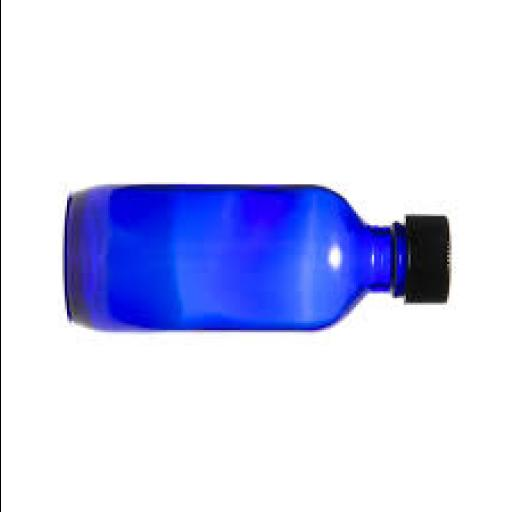blue-bottle: (68, 184, 446, 330)
